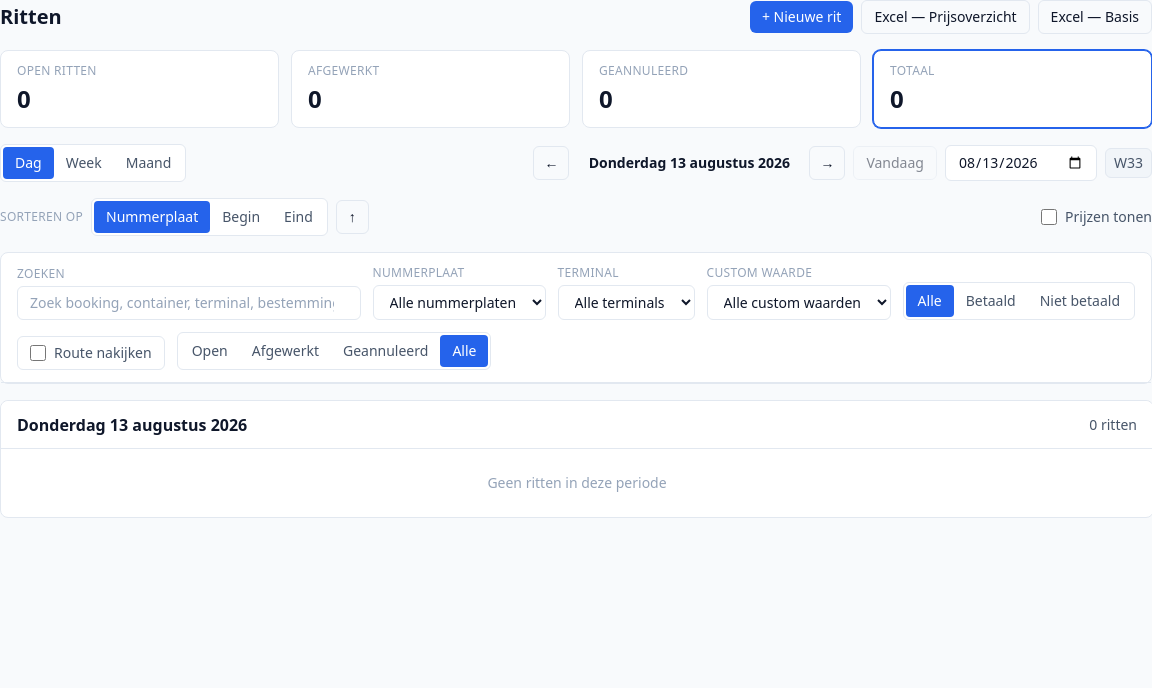
Test: LOSRIT › marking a new Trip as one › offers the choice when creating a Trip by hand
Click the button "+ Nieuwe rit". click: (802, 17)
box: [750,1,853,33]
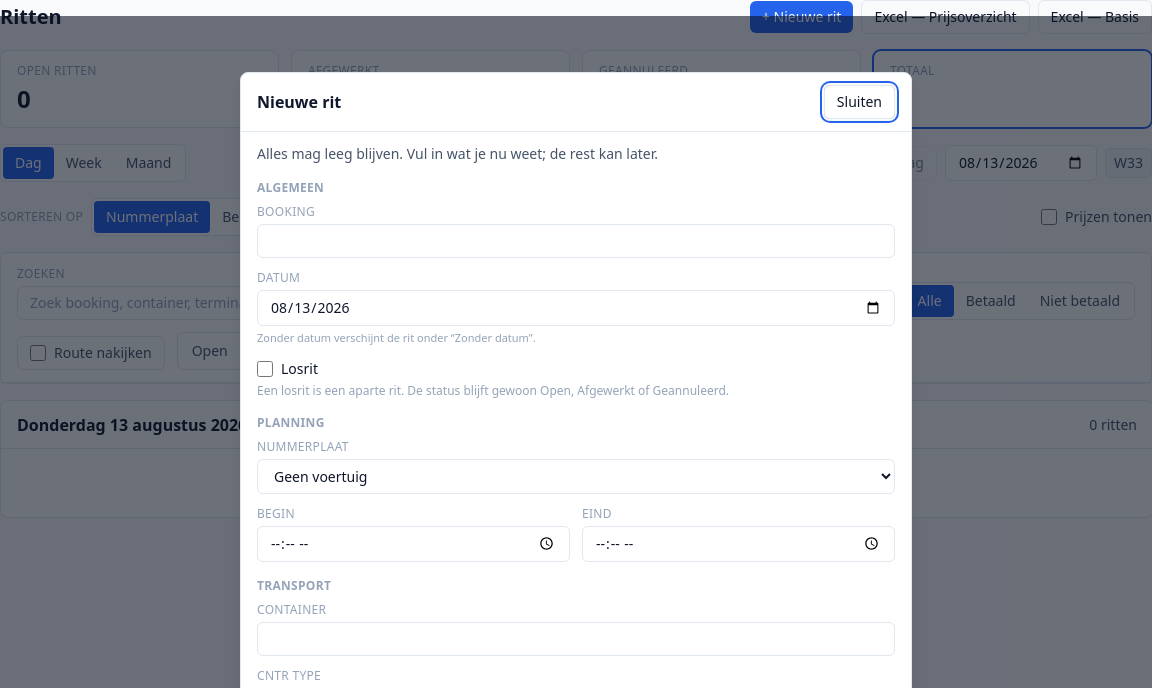
Expected: the checkbox labelled "Losrit" is not checked, [257,360,273,376]
